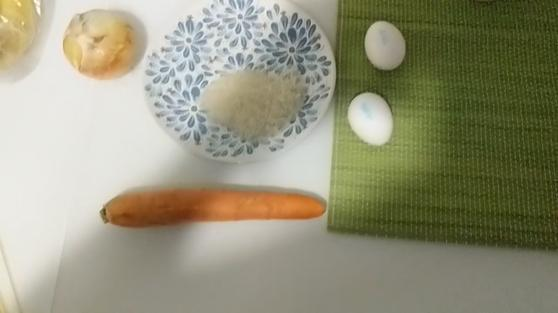carrot: (74, 172, 367, 233)
egg: (344, 84, 403, 155), (362, 16, 411, 76)
onion: (56, 4, 138, 79)
rice: (194, 54, 317, 144)
